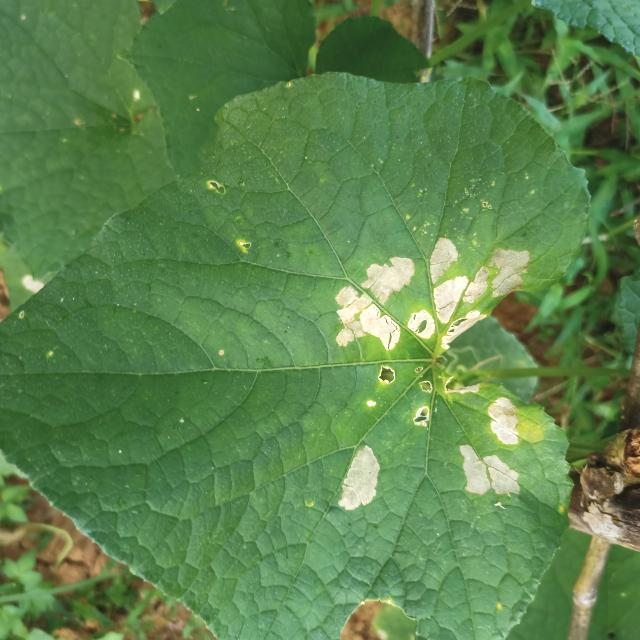disease_cucumber: (327, 234, 532, 358), (457, 442, 522, 502), (336, 442, 382, 514), (487, 395, 518, 446), (408, 378, 436, 428), (376, 366, 398, 386)
